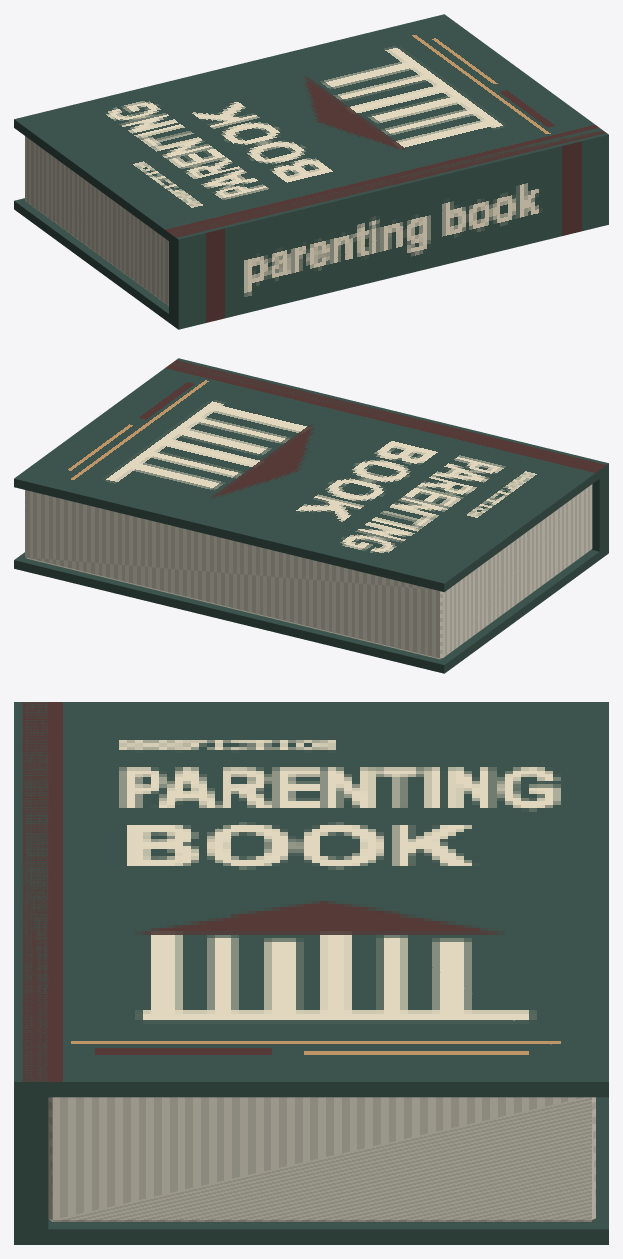
The model's file is book_nonf_hard_parenting.glb.
The picture shows the model from 3 angles, top to bottom: view 1: azimuth 30°, elevation 25°; view 2: azimuth 150°, elevation 25°; view 3: azimuth 270°, elevation 25°; orthographic projection. The views are drawn at different scales.
Parts seen in each view (by area): view 1: block_front, block_spine, block_pages, block_back; view 2: block_front, block_pages, block_back, block_spine; view 3: block_front, block_pages, block_spine, block_back.
Boxes of the visible parts, bbox=[...] form: block_front: bbox=[14, 14, 606, 245]; block_spine: bbox=[169, 127, 608, 329]; block_pages: bbox=[25, 136, 168, 305]; block_back: bbox=[14, 198, 175, 327]; block_front: bbox=[14, 360, 606, 592]; block_pages: bbox=[25, 484, 592, 659]; block_back: bbox=[14, 547, 606, 673]; block_spine: bbox=[173, 358, 608, 554]; block_front: bbox=[22, 702, 608, 1097]; block_pages: bbox=[48, 1097, 595, 1221]; block_spine: bbox=[14, 702, 48, 1244]; block_back: bbox=[22, 1097, 608, 1244].
Bounding box in the file's own units: 0.255 × 0.051 × 0.1688.
1 material, 1 textured.
